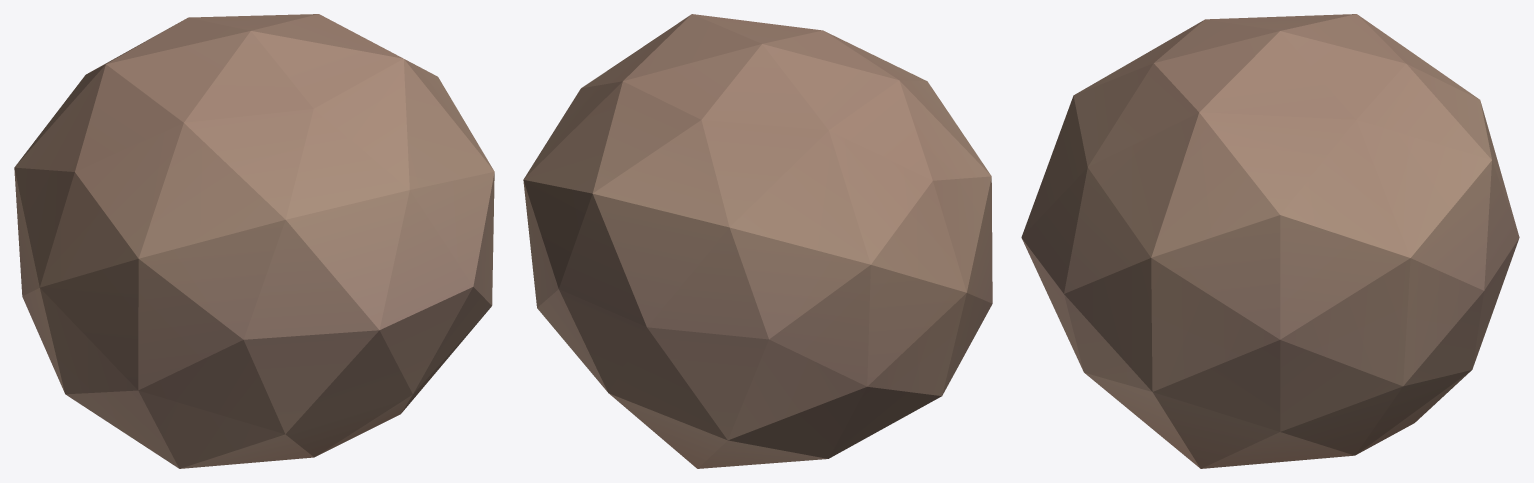
File: shot_stone_a.glb
3 renders of one model, left to right at view 1: azimuth 30°, elevation 25°; view 2: azimuth 150°, elevation 25°; view 3: azimuth 270°, elevation 25°, orthographic. The views are drawn at different scales.
Visible parts, largest first — view 1: shot_stone_a; view 2: shot_stone_a; view 3: shot_stone_a.
Boxes of the visible parts, x1,y1,x2,y2 form: shot_stone_a: (14,14,494,468); shot_stone_a: (523,14,992,468); shot_stone_a: (1021,14,1519,468).
Bounding box in the file's own units: 0.3124 × 0.3034 × 0.3194.
